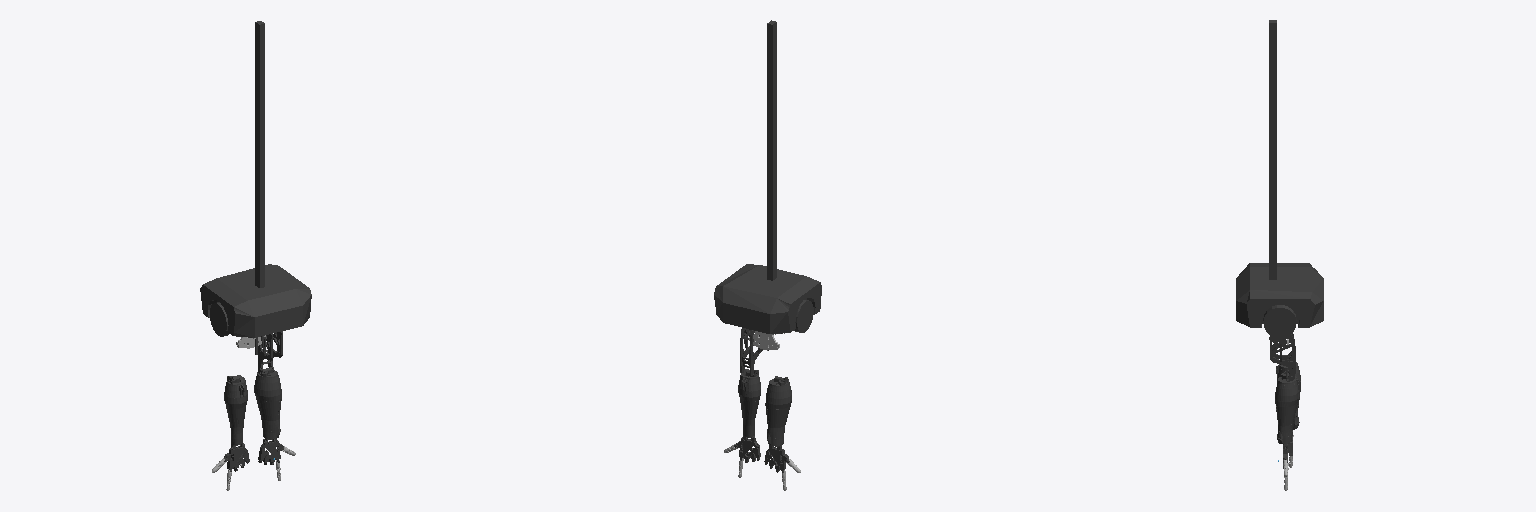
--- What the picture shows (computed from the rendered views, not written in the file) ---
Views: 3 orthographic renders of the robot side by side, from view 1: azimuth 30°, elevation 25°; view 2: azimuth 150°, elevation 25°; view 3: azimuth 270°, elevation 25°.
Robot: robo_hand — 34 links, 33 joints (16 revolute, 1 prismatic, 16 fixed); root link base_footprint; default pose: every joint at zero.
Visible links, largest first — view 1: base_link, left_arm_forearm_link, right_arm_forearm_link, left_arm_biceps_link; view 2: base_link, right_arm_forearm_link, left_arm_forearm_link, left_arm_biceps_link; view 3: base_link, left_arm_forearm_link, left_arm_biceps_link.
Boxes of the visible links, x1,y1,x2,y2 form: base_link: (200,21,311,337); left_arm_forearm_link: (254,367,281,438); right_arm_forearm_link: (224,375,247,444); left_arm_biceps_link: (258,331,282,371); base_link: (714,20,821,333); right_arm_forearm_link: (765,376,791,445); left_arm_forearm_link: (738,369,760,436); left_arm_biceps_link: (740,328,762,375); base_link: (1236,20,1323,337); left_arm_forearm_link: (1275,370,1300,443); left_arm_biceps_link: (1269,333,1295,381).
Bounding box of the posed robot: 0.3775 × 0.3608 × 2.09 m (x, y, z).
Meshes: 17 distinct files referenced, 15 mesh visuals loaded (15 binary STL); not drawn: 2 (reference not matched to a file when rendering).

The robot description file, URDF, robot "robo_hand":
<?xml version="1.0" ?>
<!-- =================================================================================== -->
<!-- |    This document was autogenerated by xacro from robo_two_arms_realsense.xacro  | -->
<!-- |    EDITING THIS FILE BY HAND IS NOT RECOMMENDED                                 | -->
<!-- =================================================================================== -->
<robot name="robo_hand" xmlns:xacro="http://ros.org/wiki/xacro">
  <!-- Properties -->
  <!-- Include files -->
  <!-- Materials -->
  <material name="red">
    <color rgba="1.0 0.0 0.0 0.8"/>
  </material>
  <material name="orange">
    <color rgba="1.0 0.5 0.0 0.8"/>
  </material>
  <material name="yellow">
    <color rgba="1.0 1.0 0.0 0.8"/>
  </material>
  <material name="green">
    <color rgba="0.0 1.0 0.0 0.8"/>
  </material>
  <material name="blue">
    <color rgba="0.0 0.0 1.0 0.8"/>
  </material>
  <material name="indigo">
    <color rgba="0.294 0.0 0.510 0.8"/>
  </material>
  <material name="violet">
    <color rgba="0.561 0.0 1.0 0.8"/>
  </material>
  <material name="realsensecolor">
    <color rgba="0.141 0.529 0.757 0.8"/>
  </material>
  <material name="Black">
    <color rgba="0.2 0.2 0.2 1.0"/>
  </material>
  <material name="TransparentBlack">
    <color rgba="0.2 0.2 0.2 0.8"/>
  </material>
  <material name="Orange">
    <color rgba="1.0  0.55 0.0 1.0"/>
  </material>
  <material name="Grey">
    <color rgba="0.7 0.7 0.7 1.0"/>
  </material>
  <material name="DarkGrey">
    <color rgba="0.3 0.3 0.3 1.0"/>
  </material>
  <material name="Red">
    <color rgba="0.8 0.0 0.0 1.0"/>
  </material>
  <material name="White">
    <color rgba="1.0 1.0 1.0 1.0"/>
  </material>
  <material name="OffWhite">
    <color rgba="0.8 0.8 0.8 1.0"/>
  </material>
  <material name="Blue">
    <color rgba="0.0 0.0 0.8 1.0"/>
  </material>
  <material name="Green">
    <color rgba="0.0 0.8 0.0 1.0"/>
  </material>
  <material name="TransparentGreen">
    <color rgba="0.0 0.8 0.0 0.5"/>
  </material>
  <!-- Properties  -->
  <!-- Macro -->
  <!-- Properties -->
  <!-- Macro -->
  <!-- Properties -->
  <!-- Macro -->
  <!-- Properties -->
  <!-- Macro -->
  <!-- Properties -->
  <!-- Macro -->
  <!-- Components -->
  <!-- Base -->
  <!-- L -->
  <link name="base_footprint">
    <visual>
      <origin rpy="0 0 0" xyz="0 0 0"/>
      <geometry>
        <box size="0.05 0.05 0.001"/>
      </geometry>
      <material name="TransparentGreen"/>
    </visual>
  </link>
  <!-- J -->
  <joint name="base_joint" type="fixed">
    <!--xacro:insert_block name="origin"/-->
    <origin rpy="0 0 0" xyz="0.0 0.0 0.0"/>
    <parent link="base_footprint"/>
    <child link="base_link"/>
  </joint>
  <!-- L -->
  <link name="base_link">
    <visual>
      <origin rpy="0 0 3.14159" xyz="0 0 0"/>
      <geometry>
        <mesh filename="package://robo_description/meshes/base/vis/vis_basewheels_03.STL" scale="0.001 0.001 0.001"/>
      </geometry>
      <material name="DarkGrey"/>
    </visual>
    <collision>
      <origin rpy="0 0 3.14159" xyz="0 0 0"/>
      <geometry>
        <mesh filename="package://robo_description/meshes/base/col/col_basewheels_03.STL" scale="0.001 0.001 0.001"/>
      </geometry>
    </collision>
  </link>
  <!-- Torso -->
  <!-- J -->
  <joint name="base_torso_joint" type="fixed">
    <origin rpy="0 0 0" xyz="0.0 -0.02 1.255"/>
    <origin rpy="0 0 0" xyz="0 0 0"/>
    <parent link="base_link"/>
    <child link="torso_link"/>
  </joint>
  <!-- L -->
  <link name="torso_link">
    <visual>
      <origin rpy="0 0 3.14159" xyz="0 0 0"/>
      <geometry>
        <mesh filename="package://robo_description/meshes/torso/vis/vis_torso_03.STL" scale="0.001 0.001 0.001"/>
      </geometry>
      <material name="Grey"/>
    </visual>
    <collision>
      <origin rpy="0 0 0" xyz="0 0 0"/>
      <geometry>
        <mesh filename="package://robo_description/meshes/torso/col/col_torso_03.STL" scale="0.001 0.001 0.001"/>
      </geometry>
    </collision>
  </link>
  <!-- J -->
  <joint name="head_col_joint" type="fixed">
    <origin rpy="0 0 0" xyz="0 0 0.24"/>
    <parent link="torso_link"/>
    <child link="head_col_link"/>
  </joint>
  <!-- L -->
  <link name="head_col_link">
    <!--visual>
        <origin xyz="0 0 0" rpy="0 0 0"/>
        <geometry>
          <box size="0.01 0.01 0.01"/>
        </geometry>
        <material name="TransparentGreen"/>
      </visual-->
    <collision>
      <origin rpy="0 0 0" xyz="0 0 0"/>
      <geometry>
        <box size="0.15 0.15 0.25"/>
      </geometry>
    </collision>
  </link>
  <!-- Head/camera -->
  <!-- Telescoping neck -->
  <!-- J -->
  <joint name="torso_head_tele_joint" type="prismatic">
    <origin rpy="0 0 0" xyz="0.0 0.0 0.0"/>
    <parent link="torso_link"/>
    <child link="head_tele_link"/>
    <axis xyz="0 0 1"/>
    <limit effort="1.0" lower="0" upper="0.19" velocity="0.1"/>
  </joint>
  <!-- L -->
  <link name="head_tele_link">
    <visual>
      <origin rpy="0 0 0" xyz="0 0 0"/>
      <geometry>
        <box size="0.01 0.01 0.25"/>
      </geometry>
      <material name="DarkGrey"/>
    </visual>
    <!--collision>
        <origin xyz="0 0 0" rpy="0 0 0"/>
        <geometry>
          <box size="0.02 0.02 0.5"/>
        </geometry>
      </collision!-->
  </link>
  <!-- Neck to pan fixed -->
  <!-- J -->
  <joint name="head_neck_joint" type="fixed">
    <origin rpy="0 0 0" xyz="0 0 0.135"/>
    <parent link="head_tele_link"/>
    <child link="head_neck_link"/>
  </joint>
  <!-- L -->
  <!-- This contains the head collision box -->
  <link name="head_neck_link">
    <visual>
      <origin rpy="0 0 0" xyz="0 0 0"/>
      <geometry>
        <box size="0.01 0.03 0.03"/>
      </geometry>
      <material name="DarkGrey"/>
    </visual>
    <!--collision>
        <origin xyz="0 0 0.1" rpy="0 0 0"/>
        <geometry>
          <box size="0.2 0.2 0.2"/>
        </geometry>
      </collision!-->
  </link>
  <!-- Pan -->
  <!-- J  -->
  <joint name="head_pan_joint" type="revolute">
    <axis xyz="0 0 -1"/>
    <origin rpy="0 0 0" xyz="0 0 0.02"/>
    <limit effort="1000.0" lower="-1.570795" upper="1.570795" velocity="0.5"/>
    <parent link="head_neck_link"/>
    <child link="head_pan_link"/>
  </joint>
  <!-- L -->
  <link name="head_pan_link">
    <visual>
      <origin rpy="0 0 0" xyz="0 0 0"/>
      <geometry>
        <box size="0.03 0.03 0.01"/>
      </geometry>
      <material name="DarkGrey"/>
    </visual>
    <!--collision>
        <origin xyz="0 0 0" rpy="0 0 0"/>
        <geometry>
          <box size="0.03 0.03 0.01"/>
        </geometry>
      </collision!-->
  </link>
  <!-- Tilt -->
  <!-- J -->
  <joint name="head_tilt_joint" type="revolute">
    <axis xyz="1 0 0"/>
    <origin rpy="0 0 0" xyz="0 0.01 0"/>
    <limit effort="1000.0" lower="-0.7853975" upper="1.884954" velocity="0.5"/>
    <parent link="head_pan_link"/>
    <child link="head_tilt_link"/>
  </joint>
  <!-- L -->
  <link name="head_tilt_link">
    <visual>
      <origin rpy="0 0 0" xyz="0 0.01 0"/>
      <geometry>
        <box size="0.035 0.025 0.01"/>
      </geometry>
      <material name="DarkGrey"/>
    </visual>
    <!--collision>
        <origin xyz="0 0.01 0" rpy="0 0 0"/>
        <geometry>
          <box size="0.035 0.025 0.01"/>
        </geometry>
      </collision!-->
  </link>
  <!-- Realsense body -->
  <!-- J -->
  <joint name="head_realsense_joint" type="fixed">
    <origin rpy="0 0 0" xyz="0.0 0.0 0.0"/>
    <parent link="head_tilt_link"/>
    <child link="realsense_link"/>
  </joint>
  <!-- L -->
  <link name="realsense_link">
    <visual>
      <origin rpy="0 0 3.14159" xyz="0.01 0.025 -0.01"/>
      <geometry>
        <mesh filename="package://robo_description/meshes/camera/vis/RealSense.STL" scale="0.001 0.001 0.001"/>
      </geometry>
      <material name="realsensecolor"/>
    </visual>
    <!--collision>
        <origin xyz="0.01 0.025 -0.01" rpy="0 0 ${pi}"/>
        <geometry>
          <mesh filename="package://robo_description/meshes/camera/col/col_camera_03.STL" scale="${scale} ${scale} ${scale}"/>
        </geometry>
      </collision!-->
  </link>
  <!-- Head tracker point A -->
  <!-- J -->
  <joint name="head_tracker_A_joint" type="fixed">
    <!--axis xyz="1 1 1"/-->
    <!--limit effort="1000.0" lower="${pi}" upper="${pi}" velocity="0.5"/-->
    <!--origin xyz="0 0 0" rpy="${pi/2} ${pi/2} 0"/-->
    <origin rpy="1.57 1.57 0.0" xyz="0 -0.01 0"/>
    <parent link="realsense_link"/>
    <child link="head_tracker_A_link"/>
  </joint>
  <!-- L -->
  <link name="head_tracker_A_link">
    <visual>
      <origin rpy="0 0 0" xyz="0 0 0"/>
      <geometry>
        <box size="0.01 0.01 0.01"/>
      </geometry>
      <material name="DarkGrey"/>
    </visual>
  </link>
  <!-- Head tracker point B -->
  <!-- J2 -->
  <joint name="head_tracker_B_joint" type="fixed">
    <!--axis xyz="1 1 1"/-->
    <!--limit effort="1000.0" lower="${pi}" upper="${pi}" velocity="0.5"/-->
    <!--origin xyz="0 0 0" rpy="${pi/2} ${pi/2} 0"/-->
    <origin rpy="0.628318 1.57 0.0" xyz="0 0 0"/>
    <parent link="head_tracker_A_link"/>
    <child link="head_tracker_B_link"/>
  </joint>
  <!-- L2 -->
  <link name="head_tracker_B_link">
    <!--visual>
        <origin xyz="0 0 0" rpy="0 0 0"/>
        <geometry>          
          <box size="0.01 0.01 0.01"/>
        </geometry>
        <material name="orange"/>
      </visual-->
  </link>
  <!-- realsense_frame -->
  <!-- J -->
  <joint name="head_realsense_frame_joint" type="fixed">
    <origin rpy="1.570795 3.14159 3.14159" xyz="0.0588 0.027 0.0037"/>
    <parent link="realsense_link"/>
    <child link="realsense_frame"/>
  </joint>
  <!-- L -->
  <link name="realsense_frame">
    <visual>
      <origin rpy="0 0 0" xyz="0 0 0"/>
      <geometry>
        <box size="0.003 0.003 0.0005"/>
      </geometry>
      <material name="DarkGrey"/>
    </visual>
  </link>
  <!-- camera_depth_frame -->
  <!-- J -->
  <joint name="head_depth_joint" type="fixed">
    <origin rpy="0 0 0" xyz="0 0 0"/>
    <parent link="realsense_frame"/>
    <child link="camera_depth_optical_frame"/>
  </joint>
  <!-- L -->
  <link name="camera_depth_optical_frame">
    <inertial>
      <mass value="0.000001"/>
      <origin rpy="0 0 0" xyz="0 0 0"/>
      <inertia ixx="0.0001" ixy="0.0" ixz="0.0" iyy="0.0001" iyz="0.0" izz="0.0001"/>
    </inertial>
  </link>
  <!-- camera_color_optical_frame -->
  <!-- J -->
  <joint name="head_rgb_joint" type="fixed">
    <origin rpy="0 0 0" xyz="0 0.0003 0"/>
    <parent link="realsense_frame"/>
    <child link="camera_color_optical_frame"/>
  </joint>
  <!-- L -->
  <link name="camera_color_optical_frame">
    <visual>
      <origin rpy="0 0 0" xyz="0 0 0"/>
      <geometry>
        <box size="0.003 0.003 0.001"/>
      </geometry>
      <material name="DarkGrey"/>
    </visual>
    <inertial>
      <mass value="0.000001"/>
      <origin rpy="0 0 0" xyz="0 0 0"/>
      <inertia ixx="0.0001" ixy="0.0" ixz="0.0" iyy="0.0001" iyz="0.0" izz="0.0001"/>
    </inertial>
  </link>
  <!-- Right arm -->
  <!-- Arm base -->
  <!-- L -->
  <link name="right_arm_base_link"/>
  <!-- J -->
  <joint name="right_arm_base_joint" type="fixed">
    <origin rpy="0 0 3.14159" xyz="0.143 0.0055 0.047"/>
    <parent link="torso_link"/>
    <child link="right_arm_base_link"/>
  </joint>
  <!-- Arm out -->
  <!-- J -->
  <joint name="right_arm_out_joint" type="revolute">
    <axis xyz="0 1.0 0"/>
    <origin rpy="0 0 0" xyz="0 0 0"/>
    <origin rpy="0 0 3.14159" xyz="0.143 0.0055 0.047"/>
    <limit effort="1000.0" lower="0.0" upper="1.570795" velocity="0.5"/>
    <parent link="right_arm_base_link"/>
    <child link="right_arm_shouldera_link"/>
  </joint>
  <!-- L -->
  <link name="right_arm_shouldera_link">
    <visual>
      <origin rpy="0 0 0" xyz="0 0 0"/>
      <geometry>
        <mesh filename="package://robo_description/meshes/arm/vis/vis_right_shouldera_03.STL" scale="0.001 0.001 0.001"/>
      </geometry>
      <material name="DarkGrey"/>
    </visual>
    <collision>
      <origin rpy="0 0 0" xyz="0 0 0"/>
      <geometry>
        <mesh filename="package://robo_description/meshes/arm/col/col_right_shouldera_03.STL" scale="0.001 0.001 0.001"/>
      </geometry>
    </collision>
  </link>
  <!-- Arm forward -->
  <!-- J -->
  <joint name="right_arm_fwd_joint" type="revolute">
    <axis xyz="-1 0 0"/>
    <origin rpy="0 0 0" xyz="-0.012 0.005 -0.04"/>
    <limit effort="1000.0" lower="-1.570795" upper="1.570795" velocity="0.5"/>
    <parent link="right_arm_shouldera_link"/>
    <child link="right_arm_shoulderb_link"/>
  </joint>
  <!-- L -->
  <link name="right_arm_shoulderb_link">
    <visual>
      <origin rpy="0 0 0" xyz="0 0 0"/>
      <geometry>
        <mesh filename="package://robo_description/meshes/arm/vis/vis_right_shoulderb_03.STL" scale="0.001 0.001 0.001"/>
      </geometry>
      <material name="DarkGrey"/>
    </visual>
    <collision>
      <origin rpy="0 0 0" xyz="0 0 0"/>
      <geometry>
        <mesh filename="package://robo_description/meshes/arm/col/col_right_shoulderb_03.STL" scale="0.001 0.001 0.001"/>
      </geometry>
    </collision>
  </link>
  <!-- Arm rotate -->
  <!-- J -->
  <joint name="right_arm_rotate_joint" type="revolute">
    <axis xyz="0 0 -1"/>
    <origin rpy="0 0 0" xyz="-0.06 0 -0.059"/>
    <limit effort="1000.0" lower="-1.570795" upper="1.570795" velocity="0.5"/>
    <parent link="right_arm_shoulderb_link"/>
    <child link="right_arm_biceps_link"/>
  </joint>
  <!-- L -->
  <link name="right_arm_biceps_link">
    <visual>
      <origin rpy="0 0 0" xyz="0 0 0"/>
      <geometry>
        <mesh filename="package://robo_description/meshes/arm/vis/vis_right_biceps_03.STL" scale="0.001 0.001 0.001"/>
      </geometry>
      <material name="DarkGrey"/>
    </visual>
    <collision>
      <origin rpy="0 0 0" xyz="0 0 0"/>
      <geometry>
        <mesh filename="package://robo_description/meshes/arm/col/col_right_biceps_03.STL" scale="0.001 0.001 0.001"/>
      </geometry>
    </collision>
  </link>
  <!-- Elbow -->
  <!-- J -->
  <joint name="right_elbow_joint" type="revolute">
    <axis xyz="-1 0 0"/>
    <origin rpy="0 0 0" xyz="0 0.029 -0.225"/>
    <limit effort="1000.0" lower="0.0" upper="1.570795" velocity="0.5"/>
    <parent link="right_arm_biceps_link"/>
    <child link="right_arm_forearm_link"/>
  </joint>
  <!-- L -->
  <link name="right_arm_forearm_link">
    <visual>
      <origin rpy="0 0 0" xyz="0 0 0"/>
      <geometry>
        <mesh filename="package://robo_description/meshes/arm/vis/vis_right_forearm_03.STL" scale="0.001 0.001 0.001"/>
      </geometry>
      <material name="DarkGrey"/>
    </visual>
    <collision>
      <origin rpy="0 0 0" xyz="0 0 0"/>
      <geometry>
        <mesh filename="package://robo_description/meshes/arm/col/col_right_forearm_03.STL" scale="0.001 0.001 0.001"/>
      </geometry>
    </collision>
  </link>
  <!-- Wrist/Hand -->
  <!-- J -->
  <joint name="right_wrist_joint" type="revolute">
    <axis xyz="0 0 1.0"/>
    <!--origin rpy="0 0 0" xyz=".009972 .012326 -.288718"/-->
    <origin rpy="0 0 0" xyz="0.008 0.01 -0.2888"/>
    <limit effort="1000.0" lower="0.0" upper="3.14159" velocity="0.5"/>
    <parent link="right_arm_forearm_link"/>
    <child link="right_arm_wrist_link"/>
  </joint>
  <!-- L -->
  <link name="right_arm_wrist_link">
    <visual>
      <origin rpy="0 0 0" xyz="0 0 0"/>
      <geometry>
        <mesh filename="package://robo_description/meshes/arm/vis/vis_right_hand_03.STL" scale="0.001 0.001 0.001"/>
      </geometry>
      <material name="DarkGrey"/>
    </visual>
    <collision>
      <origin rpy="0 0 0" xyz="0 0 0"/>
      <geometry>
        <mesh filename="package://robo_description/meshes/arm/col/col_right_hand_03.STL" scale="0.001 0.001 0.001"/>
      </geometry>
    </collision>
  </link>
  <!-- Right gripper -->
  <!-- gripper base joint -->
  <!-- L -->
  <link name="right_gripper_base_link"/>
  <!-- J -->
  <joint name="right_gripper_base_joint" type="fixed">
    <origin rpy="0 0 0" xyz="0 0 0"/>
    <parent link="right_arm_wrist_link"/>
    <child link="right_gripper_base_link"/>
  </joint>
  <!-- Index -->
  <!-- J -->
  <joint name="right_gripper_index_joint" type="revolute">
    <origin rpy="0 0 0" xyz="-0.034 0 -0.119"/>
    <axis xyz="-1 0 0"/>
    <limit effort="1.0" lower="0.0" upper="1.570795" velocity="3.14"/>
    <parent link="right_gripper_base_link"/>
    <child link="right_gripper_index_link"/>
  </joint>
  <!-- L -->
  <link name="right_gripper_index_link">
    <inertial>
      <mass value="0.00001"/>
      <origin xyz="0 0 0"/>
      <inertia ixx="1.0" ixy="0.0" ixz="0.0" iyy="1.0" iyz="0.0" izz="1.0"/>
    </inertial>
    <visual>
      <origin rpy="0 0 0" xyz="0 0 0"/>
      <geometry>
        <mesh filename="package://robo_description/meshes/arm/vis/vis_right_index_03.STL" scale="0.001 0.001 0.001"/>
      </geometry>
      <material name="Grey"/>
    </visual>
    <collision>
      <origin rpy="0 0 0" xyz="0 0 0"/>
      <geometry>
        <mesh filename="package://robo_description/meshes/arm/col/col_right_index_03.STL" scale="0.001 0.001 0.001"/>
      </geometry>
    </collision>
  </link>
  <!-- Thumb -->
  <!-- J -->
  <joint name="right_gripper_thumb_joint" type="revolute">
    <origin rpy="0 0 0" xyz="-0.06 0 -0.0685"/>
    <axis xyz="0 0 1.0"/>
    <limit effort="1.0" lower="0.0" upper="1.570795" velocity="3.14"/>
    <parent link="right_gripper_base_link"/>
    <child link="right_gripper_thumb_link"/>
  </joint>
  <!-- L -->
  <link name="right_gripper_thumb_link">
    <inertial>
      <mass value="0.00001"/>
      <origin xyz="0 0 0"/>
      <inertia ixx="1.0" ixy="0.0" ixz="0.0" iyy="1.0" iyz="0.0" izz="1.0"/>
    </inertial>
    <visual>
      <origin rpy="0 0 0" xyz="0 0 0"/>
      <geometry>
        <mesh filename="package://robo_description/meshes/arm/vis/vis_right_thumb_03.STL" scale="0.001 0.001 0.001"/>
      </geometry>
      <material name="Grey"/>
    </visual>
    <collision>
      <origin rpy="0 0 0" xyz="0 0 0"/>
      <geometry>
        <mesh filename="package://robo_description/meshes/arm/col/col_right_thumb_03.STL" scale="0.001 0.001 0.001"/>
      </geometry>
    </collision>
  </link>
  <!-- Fake gripper link and joint for grasp planning -->
  <!-- J -->
  <joint name="right_gripper_joint" type="fixed">
    <origin rpy="-1.570795 0 0" xyz="0 -0.03 -0.09"/>
    <parent link="right_gripper_base_link"/>
    <child link="right_gripper_link"/>
  </joint>
  <!-- L -->
  <link name="right_gripper_link">
    <visual>
      <origin rpy="0 0 0" xyz="0 0 0"/>
      <geometry>
        <box size="0.005 0.005 0.005"/>
      </geometry>
    </visual>
    <collision>
      <origin rpy="0 0 0" xyz="0 0 0"/>
      <geometry>
        <box size="0.005 0.005 0.005"/>
      </geometry>
    </collision>
  </link>
  <!-- Left arm -->
  <!-- Arm base -->
  <!-- L -->
  <link name="left_arm_base_link"/>
  <!-- J -->
  <joint name="left_arm_base_joint" type="fixed">
    <origin rpy="0 0 3.14159" xyz="-0.143 0.0055 0.047"/>
    <parent link="torso_link"/>
    <child link="left_arm_base_link"/>
  </joint>
  <!-- Arm out -->
  <!-- J -->
  <joint name="left_arm_out_joint" type="revolute">
    <axis xyz="0 -1.0 0"/>
    <origin rpy="0 0 0" xyz="0 0 0"/>
    <origin rpy="0 0 3.14159" xyz="-0.143 0.0055 0.047"/>
    <limit effort="1000.0" lower="0.0" upper="1.570795" velocity="0.5"/>
    <parent link="left_arm_base_link"/>
    <child link="left_arm_shouldera_link"/>
  </joint>
  <!-- L -->
  <link name="left_arm_shouldera_link">
    <visual>
      <origin rpy="0 0 0" xyz="0 0 0"/>
      <geometry>
        <mesh filename="package://robo_description/meshes/arm/vis/vis_left_shouldera_03.STL" scale="0.001 0.001 0.001"/>
      </geometry>
      <material name="DarkGrey"/>
    </visual>
    <collision>
      <origin rpy="0 0 0" xyz="0 0 0"/>
      <geometry>
        <mesh filename="package://robo_description/meshes/arm/col/col_left_shouldera_03.STL" scale="0.001 0.001 0.001"/>
      </geometry>
    </collision>
  </link>
  <!-- Arm forward -->
  <!-- J -->
  <joint name="left_arm_fwd_joint" type="revolute">
    <axis xyz="-1 0 0"/>
    <origin rpy="0 0 0" xyz="0.012 0.005 -0.04"/>
    <limit effort="1000.0" lower="-1.570795" upper="1.570795" velocity="0.5"/>
    <parent link="left_arm_shouldera_link"/>
    <child link="left_arm_shoulderb_link"/>
  </joint>
  <!-- L -->
  <link name="left_arm_shoulderb_link">
    <visual>
      <origin rpy="0 0 0" xyz="0 0 0"/>
      <geometry>
        <mesh filename="package://robo_description/meshes/arm/vis/vis_left_shoulderb_03.STL" scale="0.001 0.001 0.001"/>
      </geometry>
      <material name="DarkGrey"/>
    </visual>
    <collision>
      <origin rpy="0 0 0" xyz="0 0 0"/>
      <geometry>
        <mesh filename="package://robo_description/meshes/arm/col/col_left_shoulderb_03.STL" scale="0.001 0.001 0.001"/>
      </geometry>
    </collision>
  </link>
  <!-- Arm rotate -->
  <!-- J -->
  <joint name="left_arm_rotate_joint" type="revolute">
    <axis xyz="0 0 1"/>
    <origin rpy="0 0 0" xyz="0.06 0 -0.059"/>
    <limit effort="1000.0" lower="-1.570795" upper="1.570795" velocity="0.5"/>
    <parent link="left_arm_shoulderb_link"/>
    <child link="left_arm_biceps_link"/>
  </joint>
  <!-- L -->
  <link name="left_arm_biceps_link">
    <visual>
      <origin rpy="0 0 0" xyz="0 0 0"/>
      <geometry>
        <mesh filename="package://robo_description/meshes/arm/vis/vis_left_biceps_03.STL" scale="0.001 0.001 0.001"/>
      </geometry>
      <material name="DarkGrey"/>
    </visual>
    <collision>
      <origin rpy="0 0 0" xyz="0 0 0"/>
      <geometry>
        <mesh filename="package://robo_description/meshes/arm/col/col_left_biceps_03.STL" scale="0.001 0.001 0.001"/>
      </geometry>
    </collision>
  </link>
  <!-- Elbow -->
  <!-- J -->
  <joint name="left_elbow_joint" type="revolute">
    <axis xyz="-1 0 0"/>
    <origin rpy="0 0 0" xyz="0 0.029 -0.225"/>
    <limit effort="1000.0" lower="0.0" upper="1.570795" velocity="0.5"/>
    <parent link="left_arm_biceps_link"/>
    <child link="left_arm_forearm_link"/>
  </joint>
  <!-- L -->
  <link name="left_arm_forearm_link">
    <visual>
      <origin rpy="0 0 0" xyz="0 0 0"/>
      <geometry>
        <mesh filename="package://robo_description/meshes/arm/vis/vis_left_forearm_03.STL" scale="0.001 0.001 0.001"/>
      </geometry>
      <material name="DarkGrey"/>
    </visual>
    <collision>
      <origin rpy="0 0 0" xyz="0 0 0"/>
      <geometry>
        <mesh filename="package://robo_description/meshes/arm/col/col_left_forearm_03.STL" scale="0.001 0.001 0.001"/>
      </geometry>
    </collision>
  </link>
  <!-- Wrist/Hand -->
  <!-- J -->
  <joint name="left_wrist_joint" type="revolute">
    <axis xyz="0 0 -1.0"/>
    <!--origin rpy="0 0 0" xyz=".009972 .012326 -.288718"/-->
    <origin rpy="0 0 0" xyz="0.008 -0.01 -0.2888"/>
    <limit effort="1000.0" lower="0.0" upper="3.14159" velocity="0.5"/>
    <parent link="left_arm_forearm_link"/>
    <child link="left_arm_wrist_link"/>
  </joint>
  <!-- L -->
  <link name="left_arm_wrist_link">
    <visual>
      <origin rpy="0 0 0" xyz="0 0 0"/>
      <geometry>
        <mesh filename="package://robo_description/meshes/arm/vis/vis_left_hand_03.STL" scale="0.001 0.001 0.001"/>
      </geometry>
      <material name="DarkGrey"/>
    </visual>
    <collision>
      <origin rpy="0 0 0" xyz="0 0 0"/>
      <geometry>
        <mesh filename="package://robo_description/meshes/arm/col/col_left_hand_03.STL" scale="0.001 0.001 0.001"/>
      </geometry>
    </collision>
  </link>
  <!-- Left gripper -->
  <!-- gripper base joint -->
  <!-- L -->
  <link name="left_gripper_base_link"/>
  <!-- J -->
  <joint name="left_gripper_base_joint" type="fixed">
    <origin rpy="0 0 0" xyz="0 0 0"/>
    <parent link="left_arm_wrist_link"/>
    <child link="left_gripper_base_link"/>
  </joint>
  <!-- Index -->
  <!-- J -->
  <joint name="left_gripper_index_joint" type="revolute">
    <origin rpy="0 0 0" xyz="0.034 0 -0.119"/>
    <axis xyz="-1 0 0"/>
    <limit effort="1.0" lower="0.0" upper="1.570795" velocity="3.14"/>
    <parent link="left_gripper_base_link"/>
    <child link="left_gripper_index_link"/>
  </joint>
  <!-- L -->
  <link name="left_gripper_index_link">
    <inertial>
      <mass value="0.00001"/>
      <origin xyz="0 0 0"/>
      <inertia ixx="1.0" ixy="0.0" ixz="0.0" iyy="1.0" iyz="0.0" izz="1.0"/>
    </inertial>
    <visual>
      <origin rpy="0 0 0" xyz="0 0 0"/>
      <geometry>
        <mesh filename="package://robo_description/meshes/arm/vis/vis_left_index_03.STL" scale="0.001 0.001 0.001"/>
      </geometry>
      <material name="Grey"/>
    </visual>
    <collision>
      <origin rpy="0 0 0" xyz="0 0 0"/>
      <geometry>
        <mesh filename="package://robo_description/meshes/arm/col/col_left_index_03.STL" scale="0.001 0.001 0.001"/>
      </geometry>
    </collision>
  </link>
  <!-- Thumb -->
  <!-- J -->
  <joint name="left_gripper_thumb_joint" type="revolute">
    <origin rpy="0 0 0" xyz="0.06 0 -0.0685"/>
    <axis xyz="0 0 -1.0"/>
    <limit effort="1.0" lower="0.0" upper="1.570795" velocity="3.14"/>
    <parent link="left_gripper_base_link"/>
    <child link="left_gripper_thumb_link"/>
  </joint>
  <!-- L -->
  <link name="left_gripper_thumb_link">
    <inertial>
      <mass value="0.00001"/>
      <origin xyz="0 0 0"/>
      <inertia ixx="1.0" ixy="0.0" ixz="0.0" iyy="1.0" iyz="0.0" izz="1.0"/>
    </inertial>
    <visual>
      <origin rpy="0 0 0" xyz="0 0 0"/>
      <geometry>
        <mesh filename="package://robo_description/meshes/arm/vis/vis_left_thumb_03.STL" scale="0.001 0.001 0.001"/>
      </geometry>
      <material name="Grey"/>
    </visual>
    <collision>
      <origin rpy="0 0 0" xyz="0 0 0"/>
      <geometry>
        <mesh filename="package://robo_description/meshes/arm/col/col_left_thumb_03.STL" scale="0.001 0.001 0.001"/>
      </geometry>
    </collision>
  </link>
  <!-- Fake gripper link and joint for grasp planning -->
  <!-- J -->
  <joint name="left_gripper_joint" type="fixed">
    <origin rpy="-1.570795 0 0" xyz="0 -0.03 -0.09"/>
    <parent link="left_gripper_base_link"/>
    <child link="left_gripper_link"/>
  </joint>
  <!-- L -->
  <link name="left_gripper_link">
    <visual>
      <origin rpy="0 0 0" xyz="0 0 0"/>
      <geometry>
        <box size="0.005 0.005 0.005"/>
      </geometry>
    </visual>
    <collision>
      <origin rpy="0 0 0" xyz="0 0 0"/>
      <geometry>
        <box size="0.005 0.005 0.005"/>
      </geometry>
    </collision>
  </link>
</robot>
